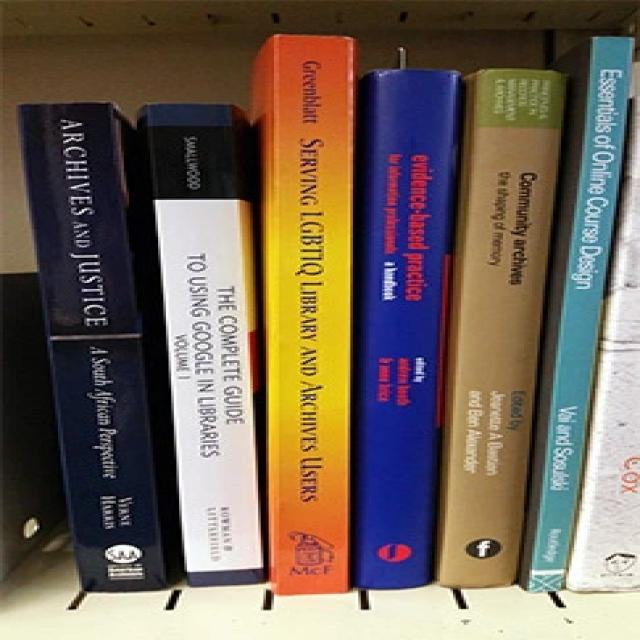book: (18, 102, 165, 593), (437, 68, 565, 589), (529, 39, 634, 592), (149, 102, 265, 588), (356, 69, 457, 588), (272, 36, 351, 594)
